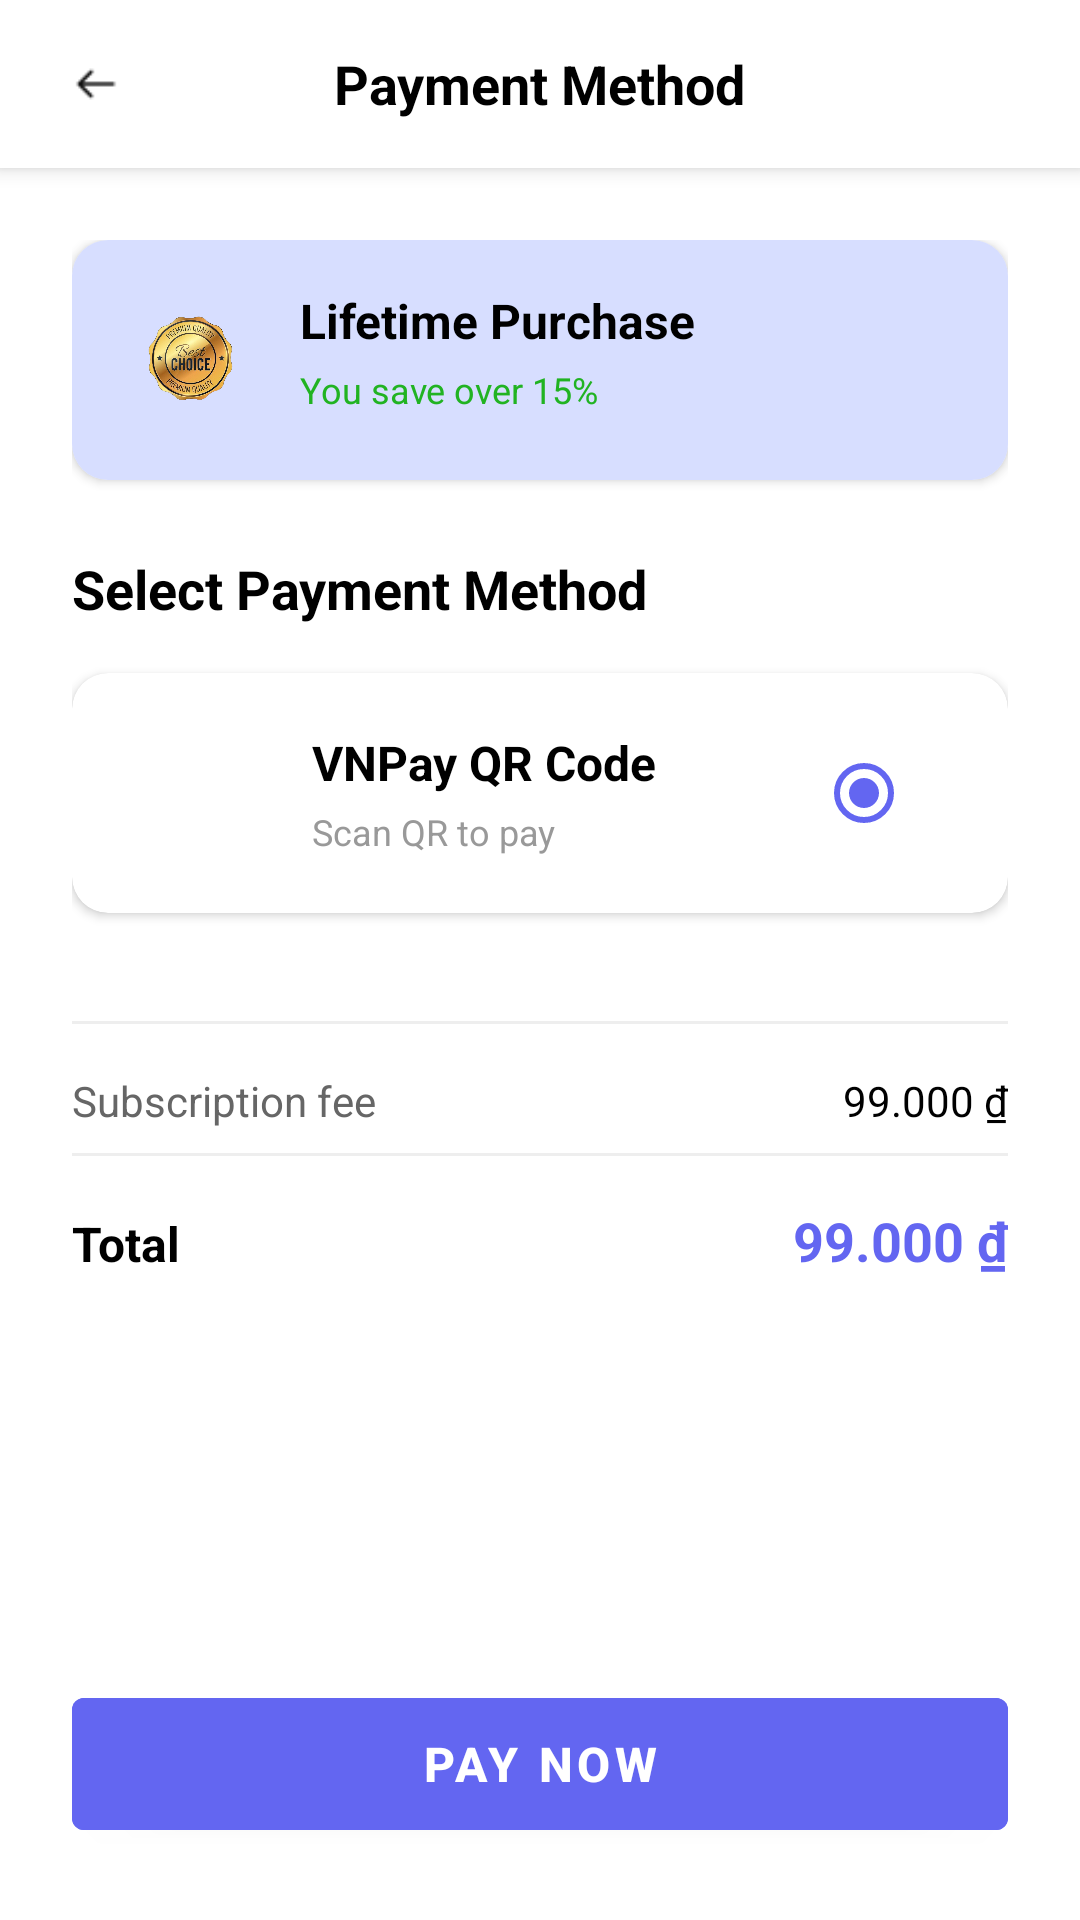

Icons on this 1080 x 1920 Android screen, each with its box as {"left": x1, "top": y1, "right": x2, "bottom": y2}:
back: {"left": 76, "top": 69, "right": 116, "bottom": 99}
